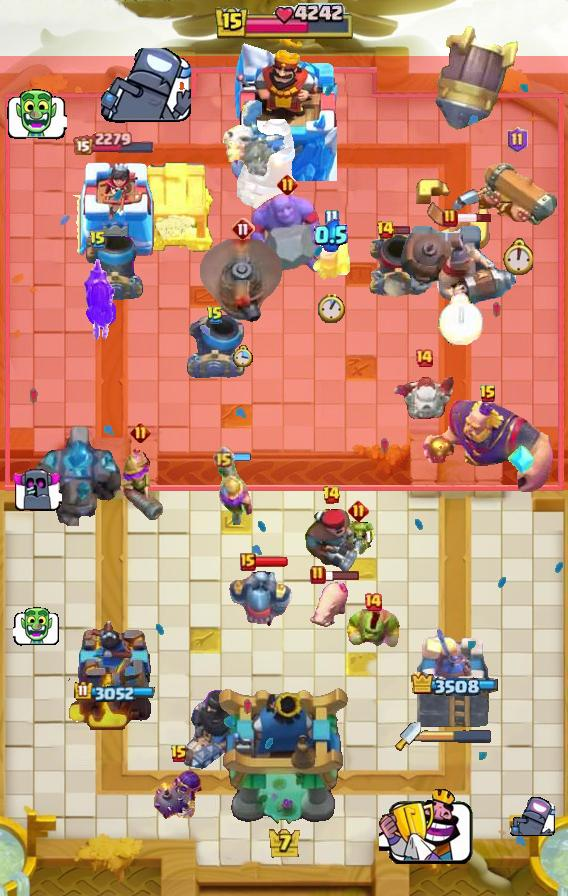archer-queen: (246, 190, 328, 278)
bar: (414, 623, 492, 731)
battle-healer: (477, 157, 557, 229)
bomb: (136, 159, 216, 253)
bomb-tower: (112, 446, 168, 524), (216, 461, 256, 525)
cannoneer-tower: (31, 423, 121, 527)
clock: (213, 3, 355, 43)
dark-prince: (198, 239, 288, 325)
electro-spirit: (314, 218, 348, 252)
elixir: (438, 293, 482, 345), (503, 237, 533, 274), (319, 293, 345, 323), (233, 345, 253, 367)
elixir-golem-small: (228, 560, 294, 628)
emote: (455, 212, 493, 224), (253, 556, 289, 568), (324, 569, 360, 581), (232, 453, 251, 464), (393, 225, 412, 235)
flying-machine: (343, 604, 403, 658)
giant: (308, 579, 350, 631)
goblin-ball: (80, 248, 116, 342), (152, 768, 206, 824)
inferno-dragon: (180, 688, 244, 771)
king-tower: (216, 684, 352, 826), (231, 43, 337, 181)
king-tower-bar: (421, 729, 493, 743)
lightning: (421, 399, 556, 499)
magic-archer: (237, 118, 297, 210)
mini-pekka: (220, 98, 298, 180), (391, 373, 457, 423)
musketeer: (366, 232, 430, 298), (85, 236, 145, 300), (185, 314, 245, 378)
pad_2: (508, 442, 536, 476)
phoenix-small: (302, 507, 360, 577)
queen-tower: (66, 617, 162, 731), (69, 158, 159, 256)
selected: (410, 672, 499, 697), (72, 129, 155, 154), (73, 681, 154, 702)
skeleton: (378, 788, 474, 864), (101, 48, 191, 126), (5, 88, 66, 140), (10, 468, 61, 512), (509, 797, 556, 838), (12, 607, 59, 646)
text: (231, 217, 255, 241), (508, 127, 529, 153), (212, 447, 235, 470), (277, 173, 298, 195), (130, 421, 151, 443), (348, 499, 369, 520), (414, 348, 434, 368), (322, 485, 342, 505), (363, 592, 383, 612), (376, 220, 395, 240), (89, 230, 107, 250), (206, 305, 224, 325), (479, 384, 497, 404), (170, 744, 188, 764), (442, 208, 458, 228), (310, 565, 326, 585), (240, 553, 256, 571), (325, 209, 339, 228)
tombstone: (310, 224, 352, 282)
wizard: (399, 223, 521, 307)
x-bow: (435, 25, 519, 132)
zap: (338, 515, 378, 555)
